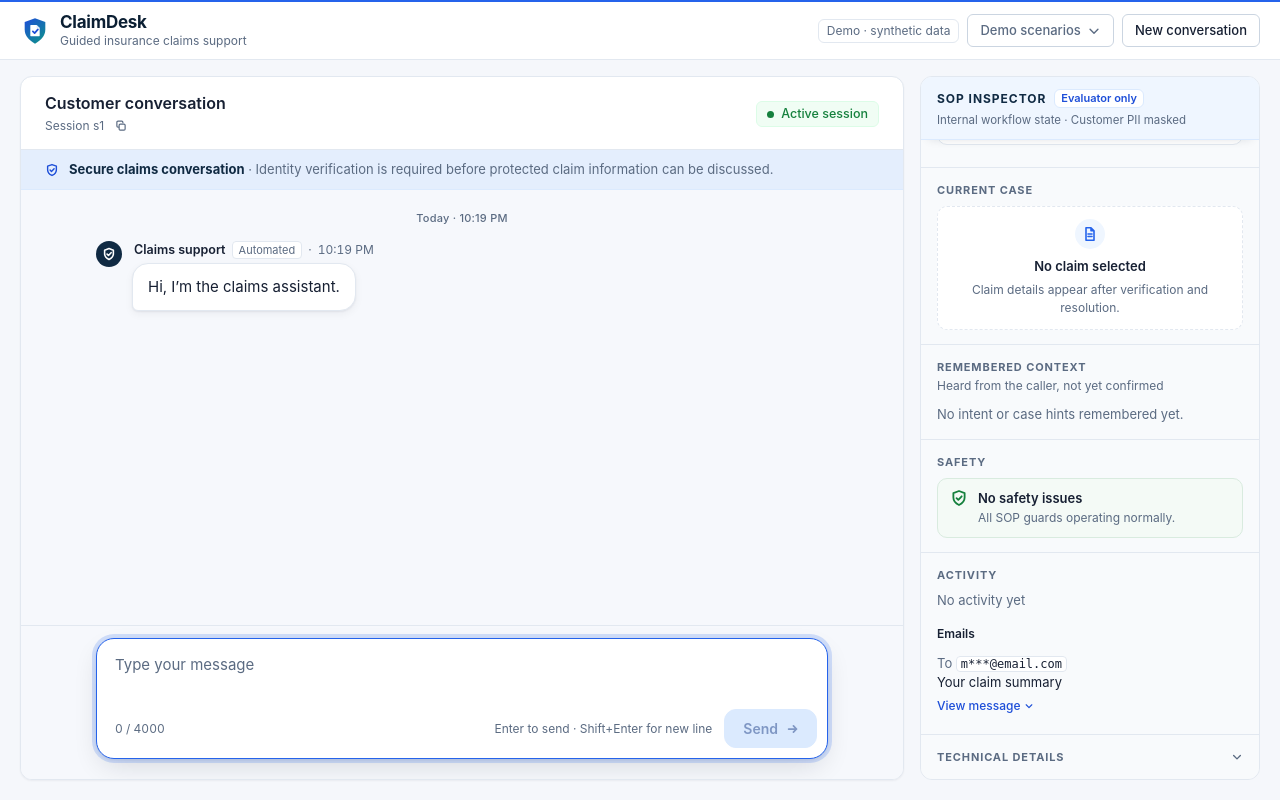
Test: activity › lists a sent email with a masked recipient, and the message only when asked
The width and height of the screenshot is (1280, 800).
(page scrolled)
Check: the text "Hi, I’m the claims assistant." is shown, box [148,275,340,299]
Check: the heading "Emails" is shown, box [937,626,975,641]
Click the button "View message".
click(986, 706)  # box [937,695,1034,717]
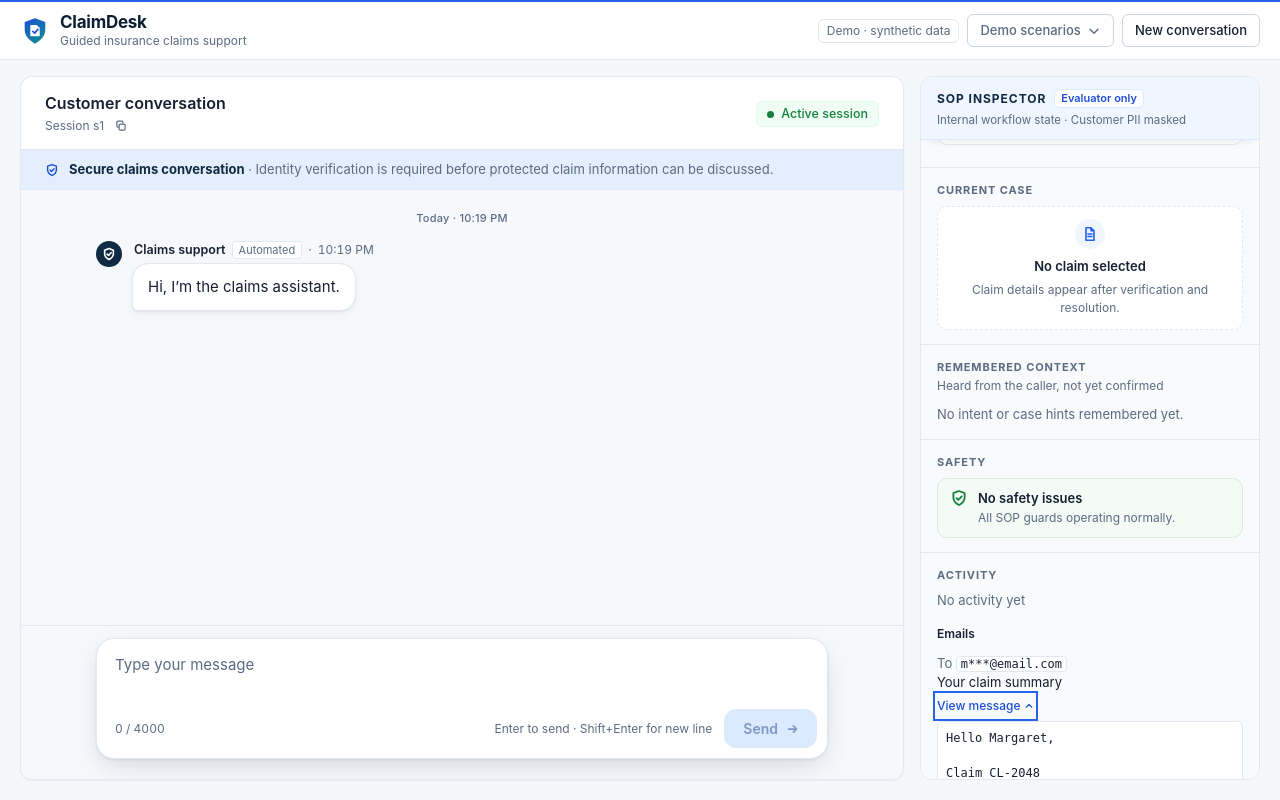
Check: the text "Hello Margaret, Claim CL-2048" is shown, box [937,721,1243,780]
Check: the button "View message" is expanded, box [937,695,1034,717]
